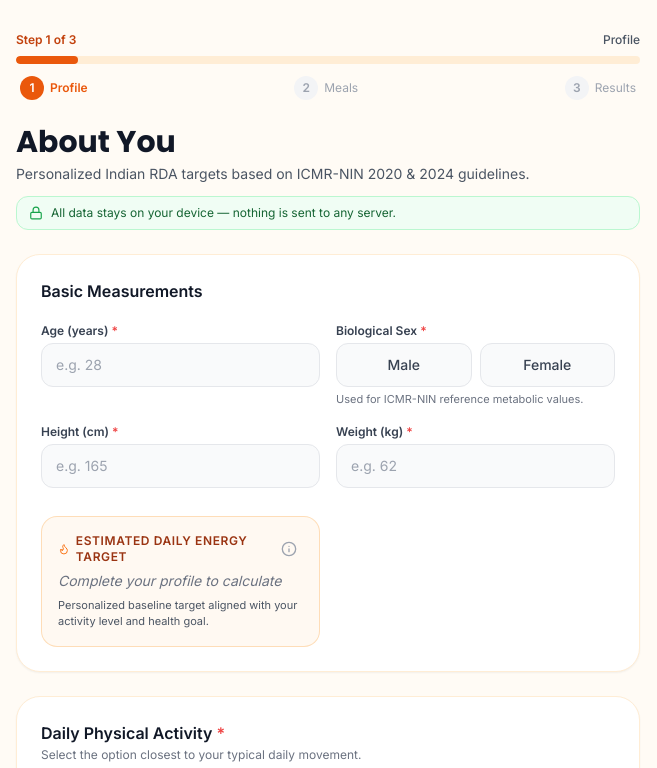
Test: Phase 2 UI & Pages Integration Tests › Profile Page › does NOT show adult BMI category for ages 13-17 (safety rule)
The width and height of the screenshot is (657, 768).
Type "15" into the number field labelled "Age (years) *". click: (180, 365)
box: [41, 343, 320, 387]
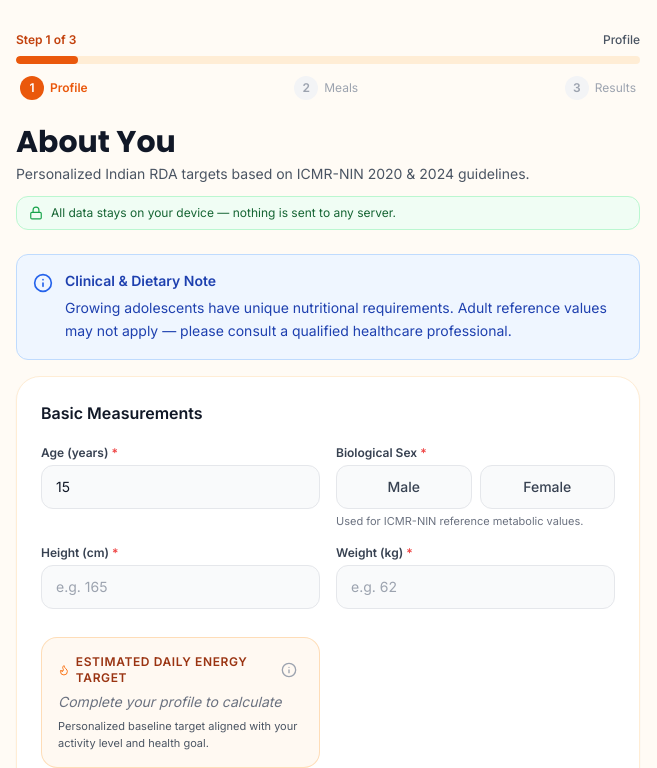
Type "160" into the number field labelled "Height (cm) *". click: (180, 587)
box: [41, 565, 320, 609]
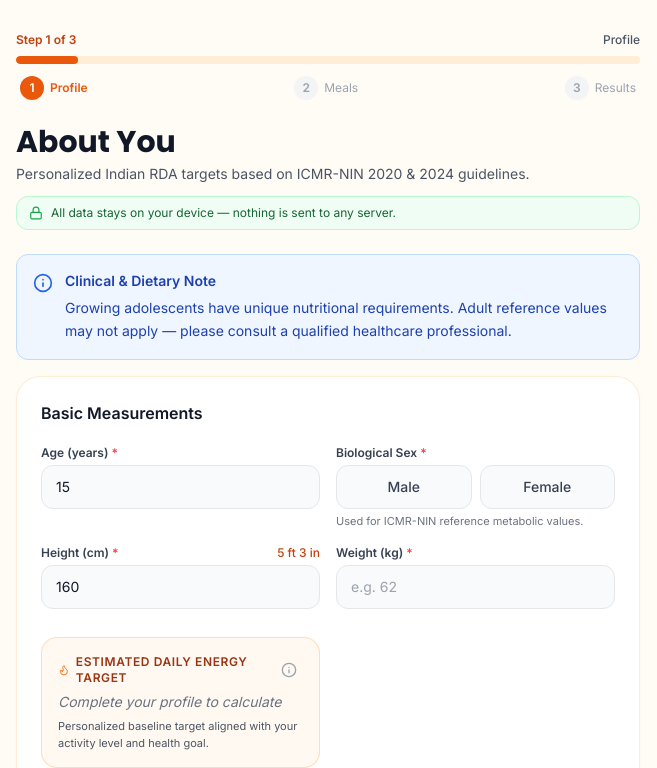
Type "55" into the number field labelled "Weight (kg) *". click: (476, 587)
box: [336, 565, 615, 609]
(page scrolled)
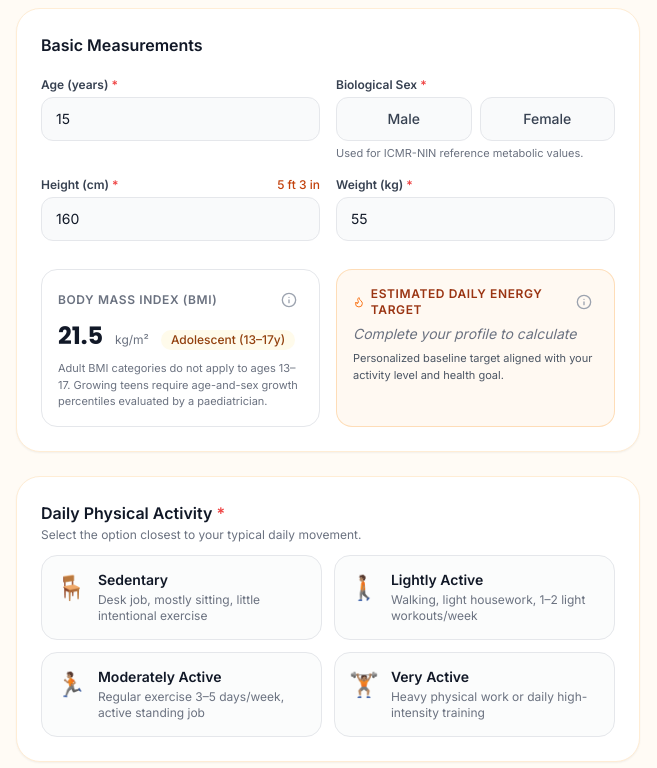
Now the text "Adolescent (13–17y)" is shown, box [161, 330, 295, 350]
Now the text "Adult BMI categories do not apply to ages 13–17" is shown, box [58, 361, 298, 408]
